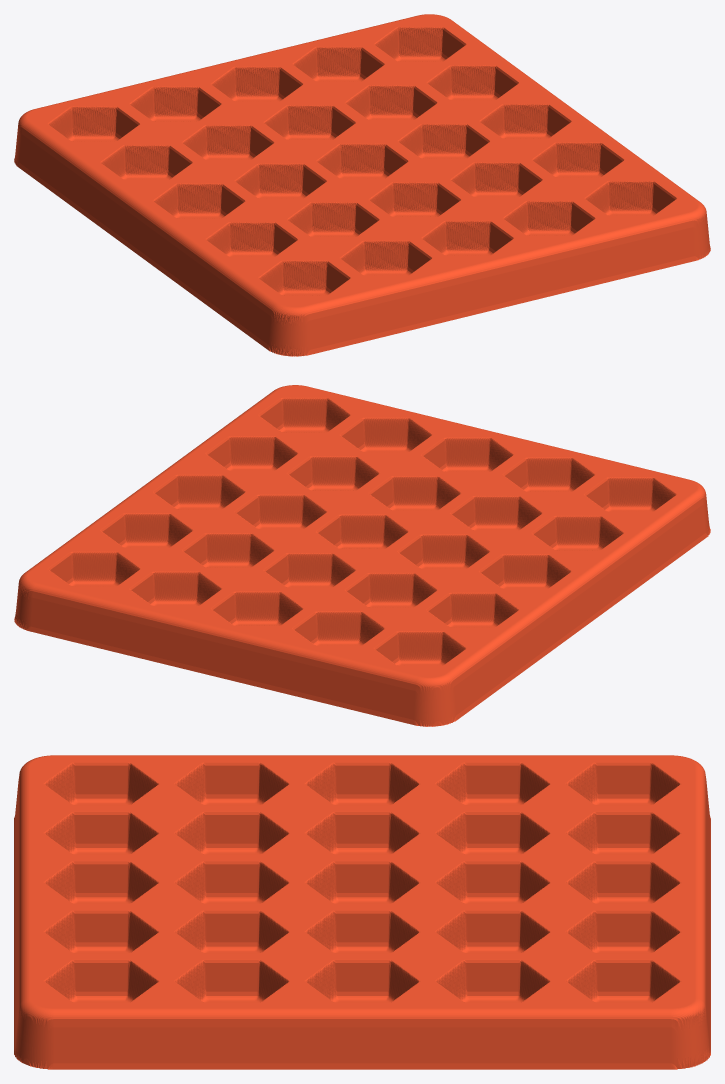
Rendered from mold.glb.
The picture shows the model from 3 angles, top to bottom: view 1: azimuth 30°, elevation 25°; view 2: azimuth 150°, elevation 25°; view 3: azimuth 270°, elevation 25°; orthographic projection. The views are drawn at different scales.
Visible parts, largest first — view 1: geometry_0; view 2: geometry_0; view 3: geometry_0.
Boxes of the visible parts, x1,y1,x2,y2 form: geometry_0: (14,14,710,356); geometry_0: (14,385,710,726); geometry_0: (14,755,710,1069).
Size of the model in its own units: 0.1428 by 0.0136 by 0.1584.
